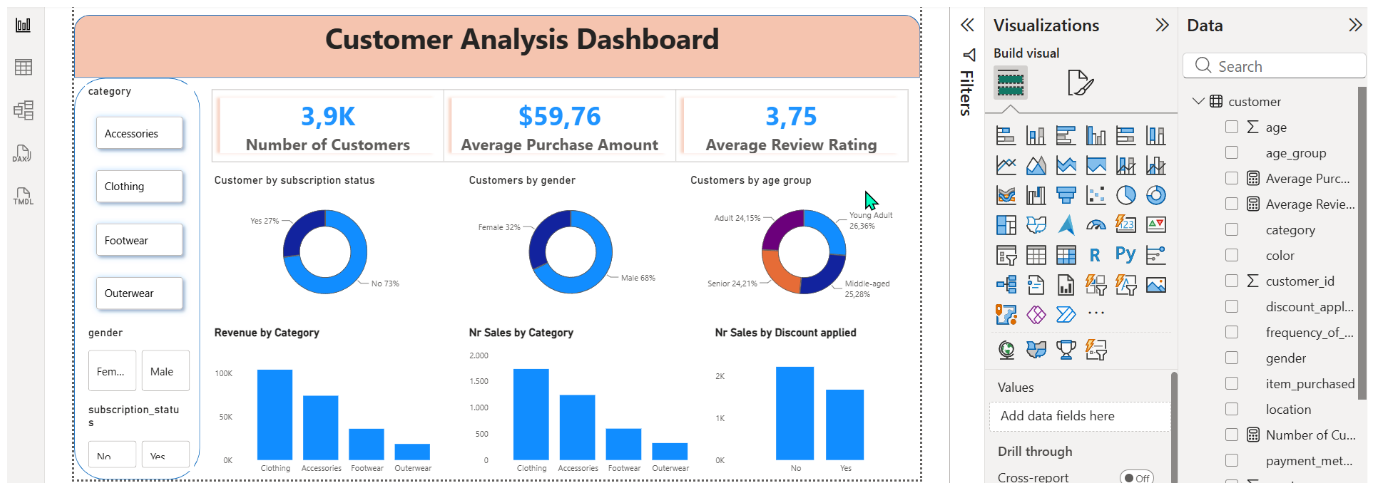

What the dashboard file says about the page in this screenshot:
{"tool":"powerbi","page":{"name":"Página 1","canvas":[1280,720],"ordinal":0},"visuals":[{"type":"cardVisual","fields":{"Data":["customer.Number of Customers","customer.Average Purchase Amount","customer.Average Review Rating"]},"box":[191.1,111.7,1089.7,144.1],"z":0},{"type":"shape","box":[0,16.2,1280.8,95.5],"z":1000},{"type":"textbox","box":[137.6,16.2,1081.6,95.5],"z":2000},{"type":"donutChart","title":"Customers by gender","fields":{"Category":["customer.gender"],"Y":["CountNonNull(customer.customer_id)"]},"box":[592.6,255.8,317.4,207.3],"z":3000},{"type":"donutChart","title":"Customer by subscription status","fields":{"Category":["customer.subscription_status"],"Y":["CountNonNull(customer.customer_id)"]},"box":[207.3,255.8,344.9,207.3],"z":4000},{"type":"donutChart","title":"Customers by age group","fields":{"Category":["customer.age_group"],"Y":["CountNonNull(customer.customer_id)"]},"box":[927.8,255.8,353,207.3],"z":5000},{"type":"columnChart","title":"Revenue by Category","fields":{"Category":["customer.category"],"Y":["Sum(customer.purchase_amount)"]},"box":[207.3,487.4,365.9,233.2],"z":6000},{"type":"columnChart","title":"Nr Sales by Category","fields":{"Category":["customer.category"],"Y":["CountNonNull(customer.customer_id)"]},"box":[592.6,487.4,370.8,233.2],"z":7000},{"type":"columnChart","title":"Nr Sales by Discount applied","fields":{"Category":["customer.discount_applied"],"Y":["CountNonNull(customer.customer_id)"]},"box":[964.8,487.2,306,233.2],"z":8000},{"type":"shape","box":[0,111.7,190.7,608.6],"z":9000},{"type":"advancedSlicerVisual","fields":{"Values":["customer.subscription_status"]},"box":[15.4,604.7,165.2,103.6],"z":10000},{"type":"advancedSlicerVisual","fields":{"Values":["customer.category"]},"box":[15.4,121.3,165.6,365.9],"z":11000},{"type":"advancedSlicerVisual","fields":{"Values":["customer.gender"]},"box":[15.4,487.2,165.6,104],"z":12000}]}

Visuals, with their boxes on the page's 1280x720 design canvas (x1, y1, x2, y2). These are canvas units, not pixel positions in the 1377x488 screenshot, which may show the page scaled, cropped or inside an application window:
cardVisual - customer.Number of Customers x customer.Average Purchase Amount: detection(191, 112, 1281, 256)
shape: detection(0, 16, 1281, 112)
textbox: detection(138, 16, 1219, 112)
"Customers by gender" donutChart: detection(593, 256, 910, 463)
"Customer by subscription status" donutChart: detection(207, 256, 552, 463)
"Customers by age group" donutChart: detection(928, 256, 1281, 463)
"Revenue by Category" columnChart: detection(207, 487, 573, 721)
"Nr Sales by Category" columnChart: detection(593, 487, 963, 721)
"Nr Sales by Discount applied" columnChart: detection(965, 487, 1271, 720)
shape: detection(0, 112, 191, 720)
advancedSlicerVisual - customer.subscription_status: detection(15, 605, 181, 708)
advancedSlicerVisual - customer.category: detection(15, 121, 181, 487)
advancedSlicerVisual - customer.gender: detection(15, 487, 181, 591)
